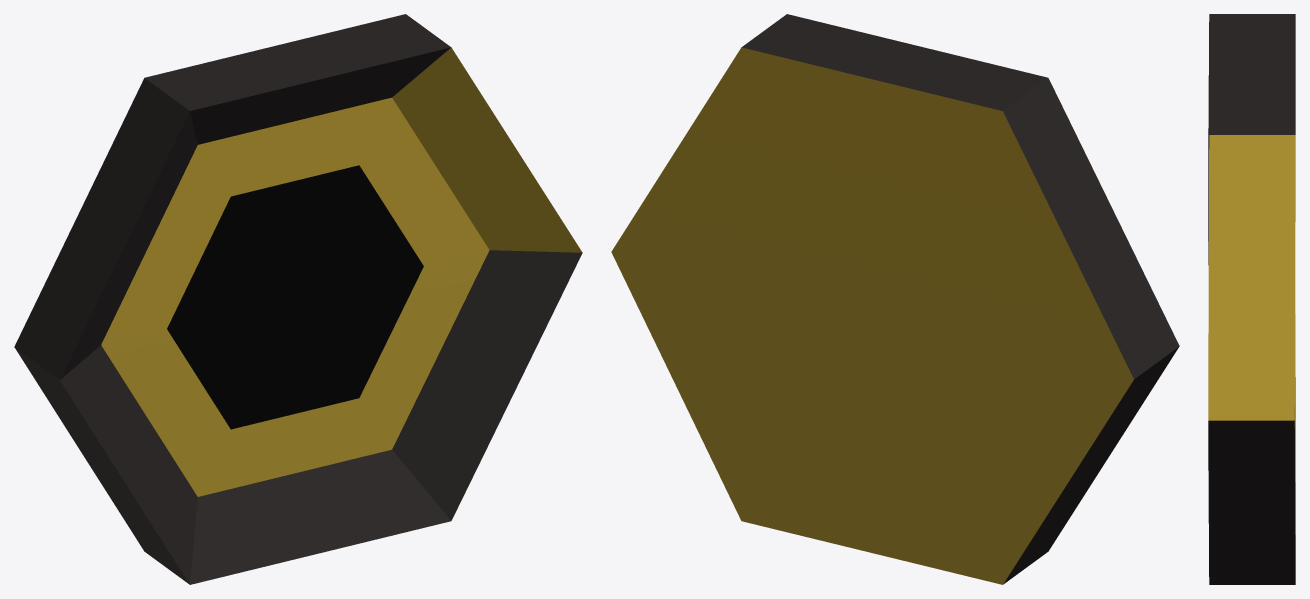
Rendered from Tinybee_Hive.fbx.
3 views of the same model, side by side, from view 1: azimuth 30°, elevation 25°; view 2: azimuth 150°, elevation 25°; view 3: azimuth 270°, elevation 25° (orthographic). The views are drawn at different scales.
Visible parts, largest first — view 1: bee1hive; view 2: bee1hive; view 3: bee1hive.
Part boxes in pixels (left/top/right/bottom): bee1hive: left=14, top=14, right=582, bottom=584; bee1hive: left=611, top=14, right=1179, bottom=584; bee1hive: left=1208, top=14, right=1295, bottom=584.
Size of the model in its own units: 230 by 199 by 35.11.
